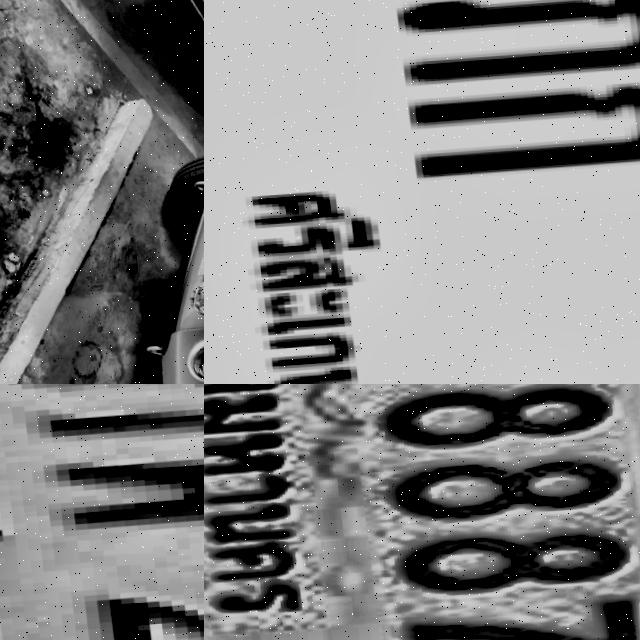license-plate: (204, 0, 640, 384), (204, 384, 640, 640), (0, 384, 204, 640), (176, 199, 204, 282)
